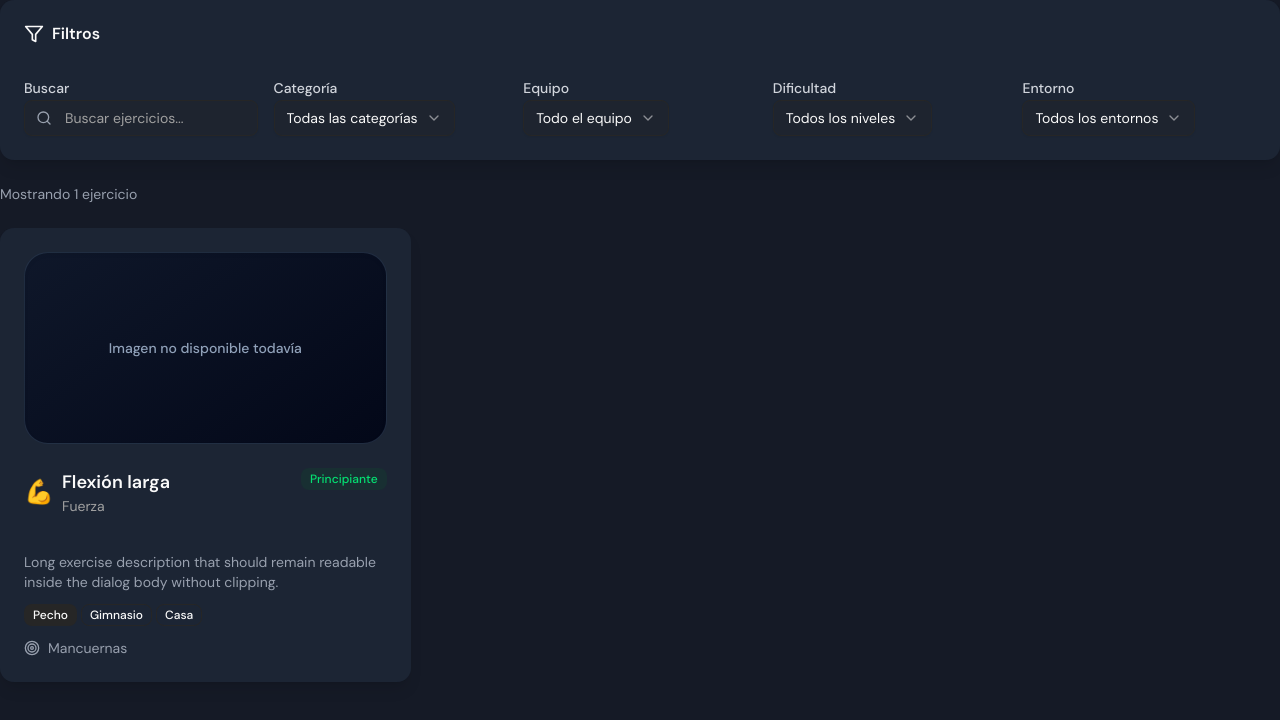
it: modal scrolling, close behavior, and workout localization › closes the exact exercise detail dialog through the visible Close button
This screenshot has width=1280, height=720.
Click the text "Flexión larga": (116, 482) [62,468,170,496]
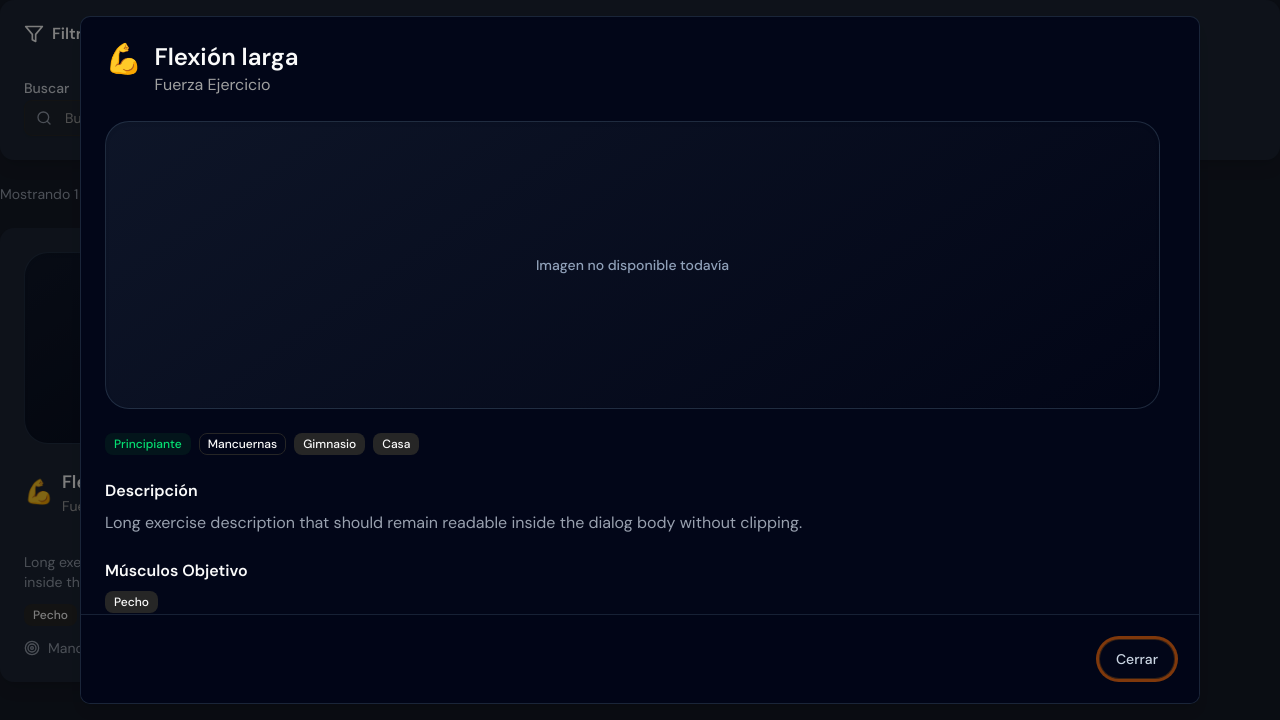
Click the button "Cerrar": (1137, 659) [1099,639,1175,679]
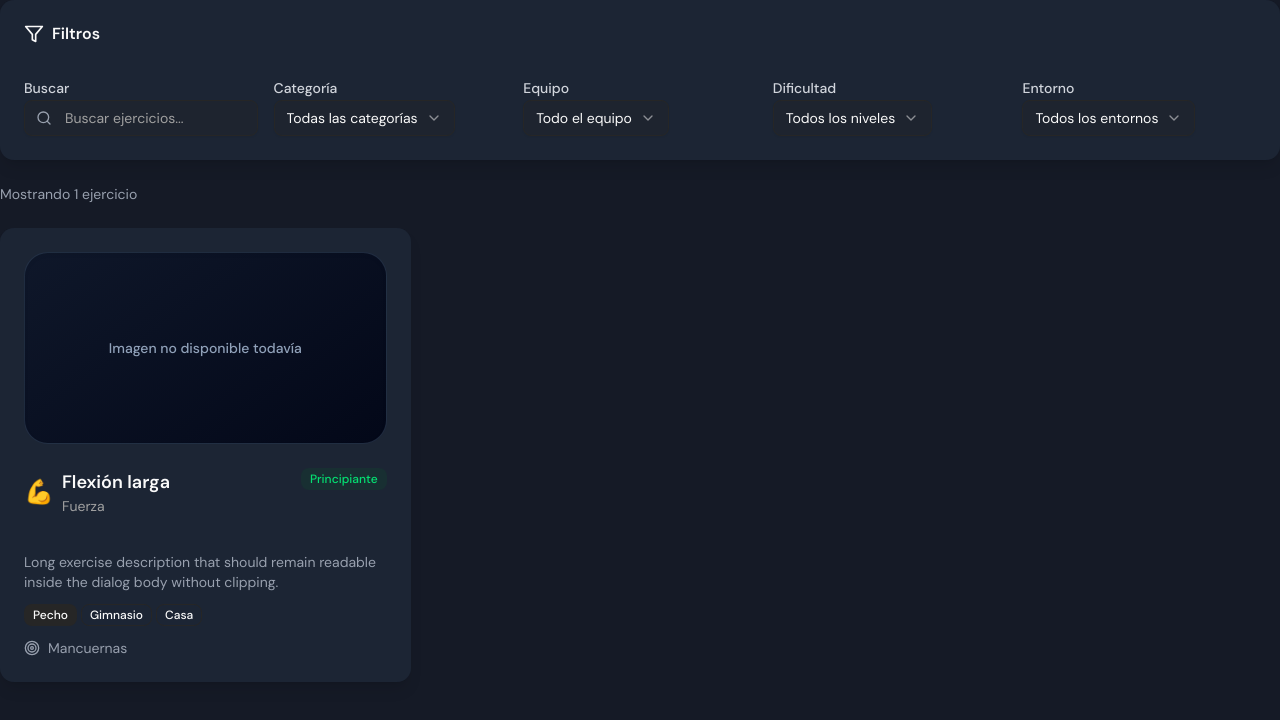
expect the dialog is gone: met
